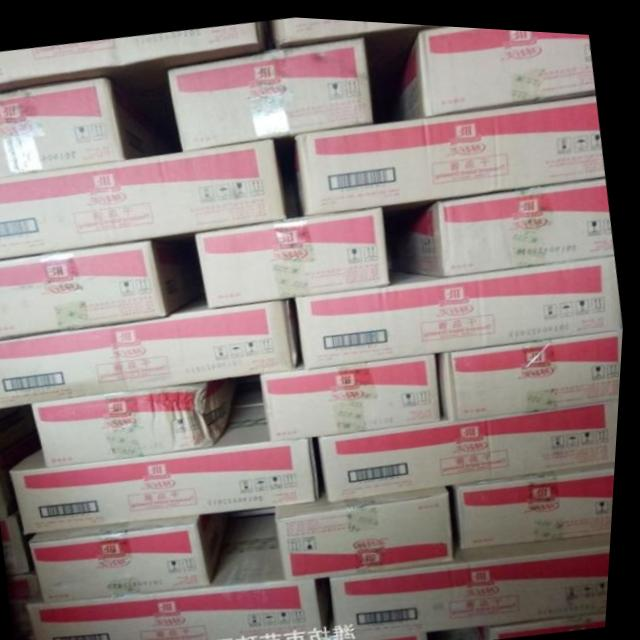box: (15, 400, 324, 533), (32, 510, 330, 640), (292, 88, 607, 210), (297, 248, 624, 365), (0, 133, 298, 259), (0, 295, 303, 405), (323, 391, 623, 496), (341, 527, 617, 636), (170, 32, 372, 149), (397, 172, 617, 272), (0, 234, 201, 338), (0, 17, 271, 92), (198, 203, 394, 305), (38, 372, 247, 465), (393, 21, 595, 115), (35, 509, 235, 602), (441, 323, 626, 416), (281, 480, 457, 575), (0, 76, 164, 176), (265, 349, 446, 439), (463, 455, 620, 544), (449, 602, 613, 638), (271, 14, 425, 42), (301, 626, 436, 640)
